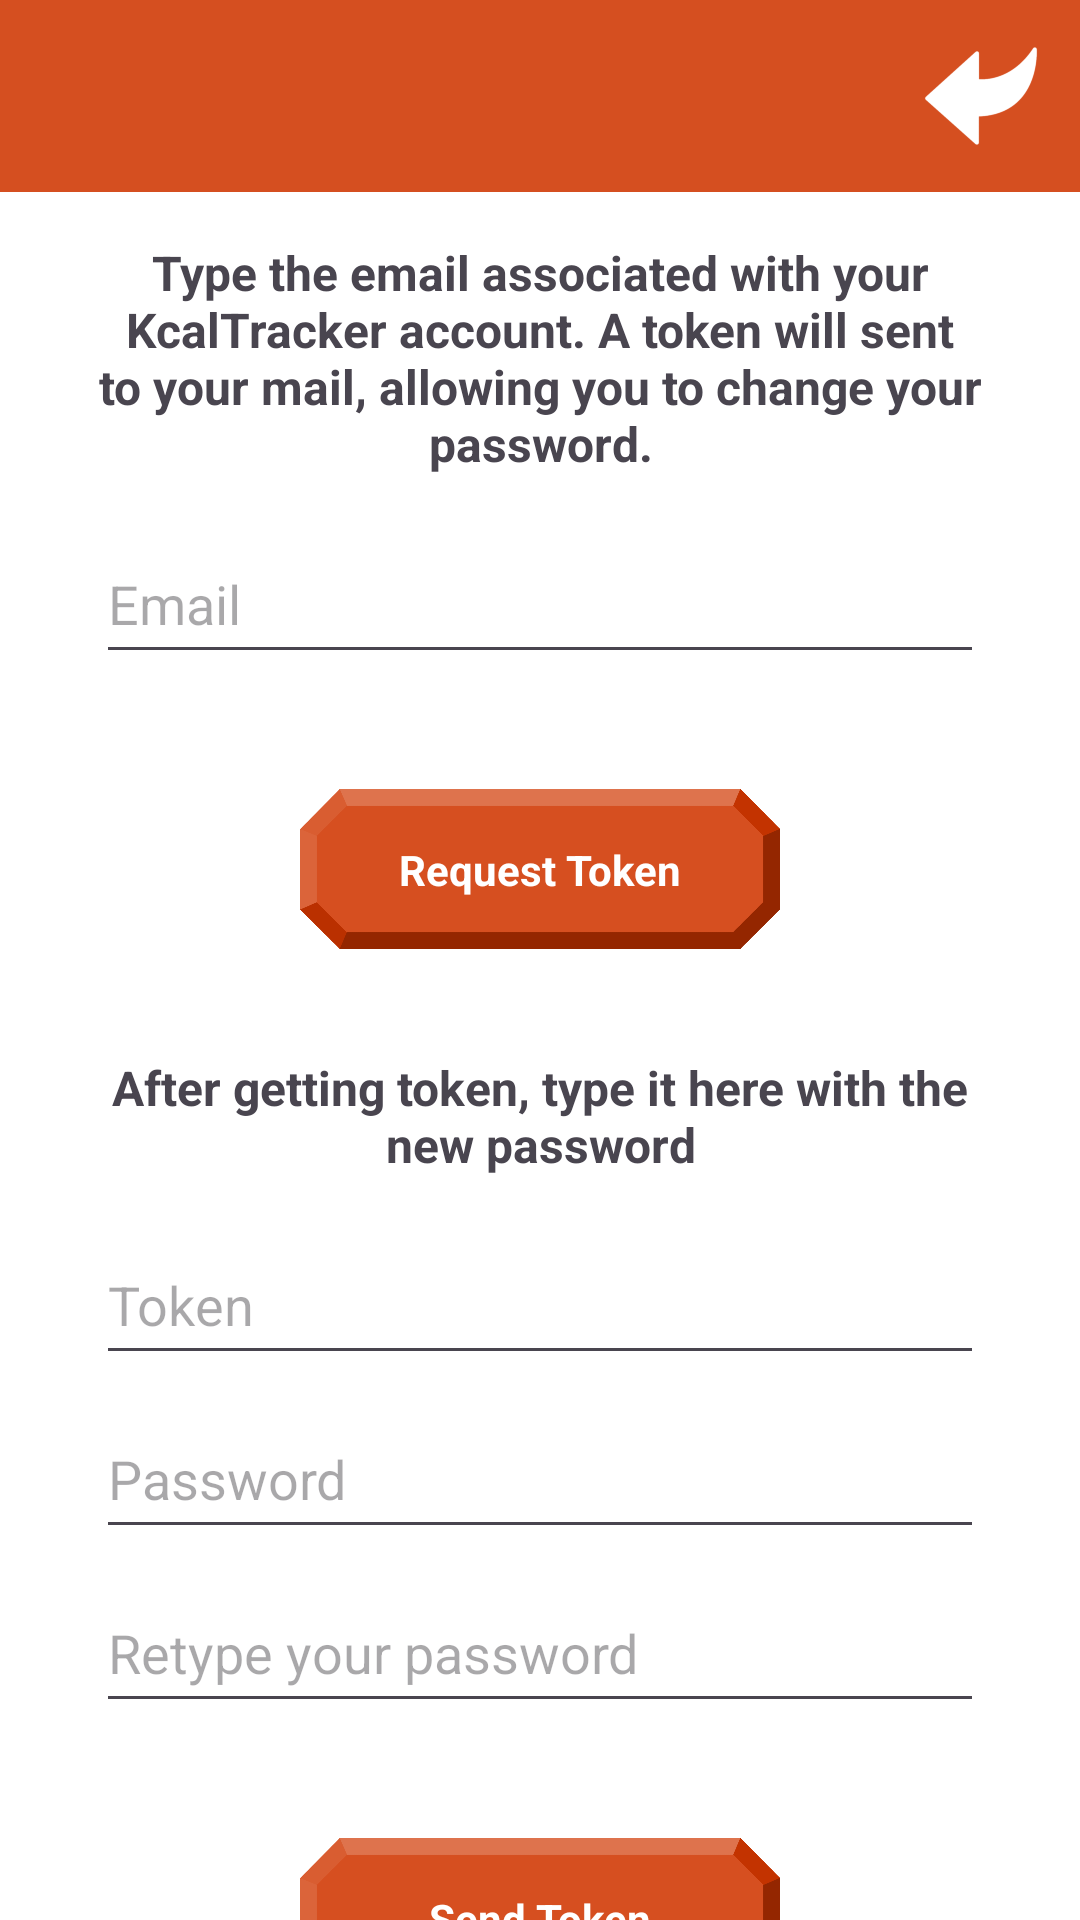

Where icons sit on this 1080w x 1920h app screen, as (left=x1, top=y1, right=x2, bottom=y2):
Back: (left=925, top=47, right=1037, bottom=145)
